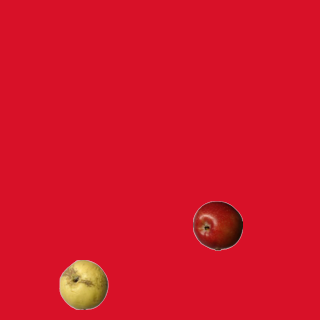Apple Braeburn: (192, 200, 242, 250)
Apple Golden 1: (58, 259, 108, 309)
